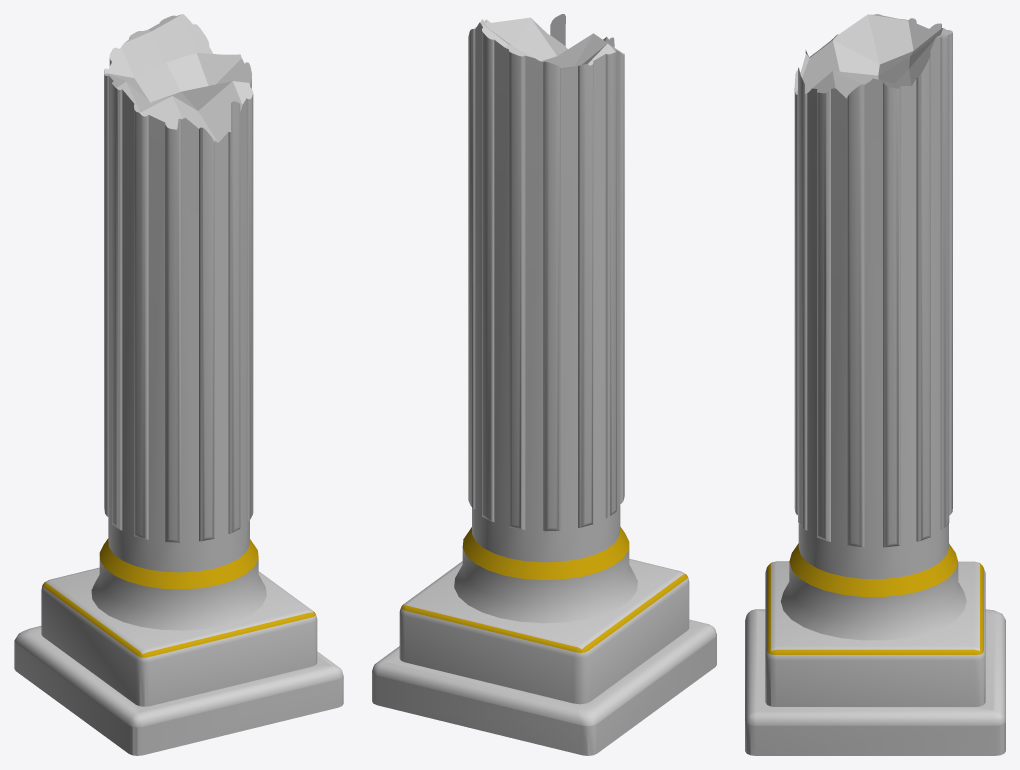
File: collume3.fbx
The picture shows the model from 3 angles, left to right: view 1: azimuth 30°, elevation 25°; view 2: azimuth 150°, elevation 25°; view 3: azimuth 270°, elevation 25°; orthographic projection. The views are drawn at different scales.
Parts seen in each view (by area): view 1: Cylinder.002; view 2: Cylinder.002; view 3: Cylinder.002.
Boxes of the visible parts, box(x1,y1,x2,y2) form: Cylinder.002: box(14, 14, 343, 755); Cylinder.002: box(372, 14, 716, 755); Cylinder.002: box(745, 14, 1005, 755).
Bounding box in the file's own units: 99.53 × 287 × 99.53.
